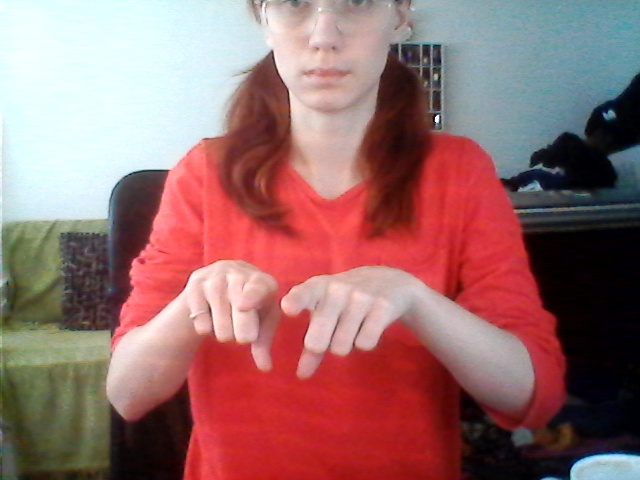sestra: (185, 241, 427, 384)
